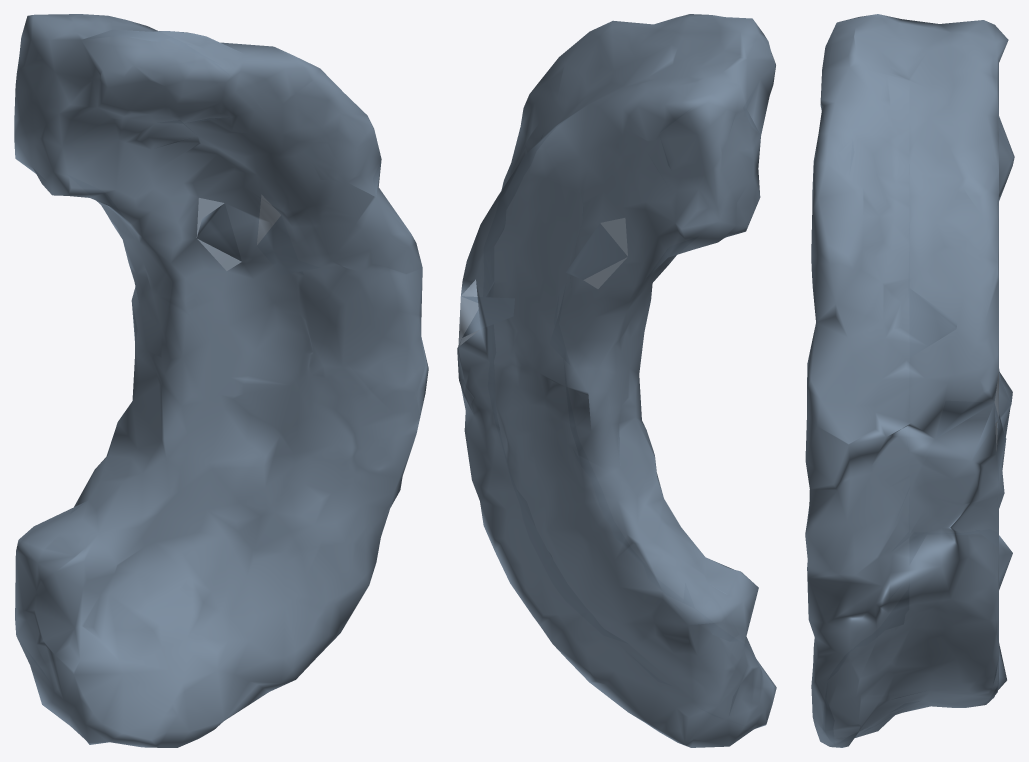
File: sample_757_orig.obj
3 renders of one model, left to right at view 1: azimuth 30°, elevation 25°; view 2: azimuth 150°, elevation 25°; view 3: azimuth 270°, elevation 25°, orthographic. The views are drawn at different scales.
Bounding box in the file's own units: 0.8971 × 1.87 × 0.5064.
